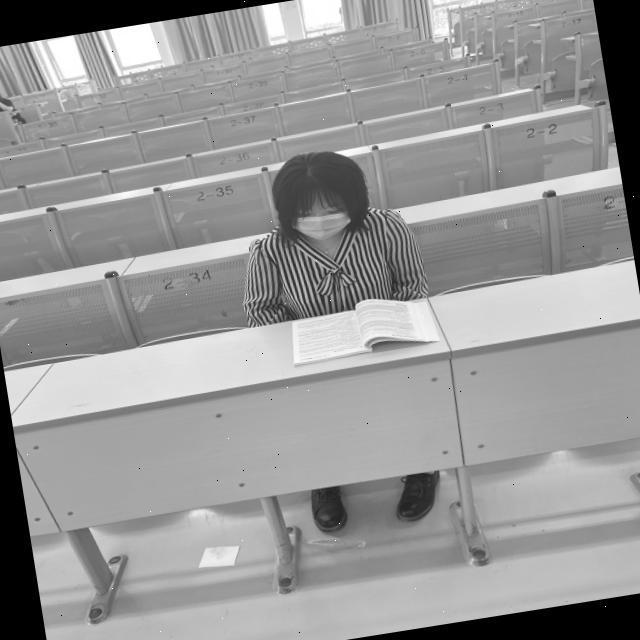study: (223, 137, 440, 370)
